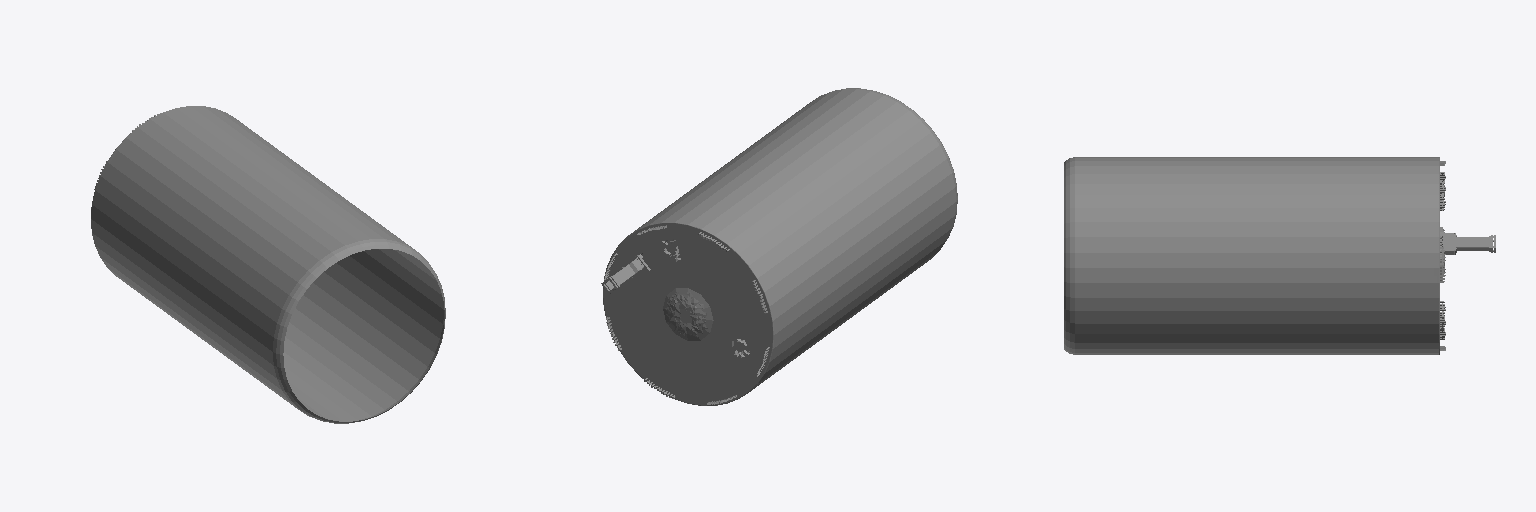
Rendered from Step000.obj.
The picture shows the model from 3 angles: view 1: azimuth 30°, elevation 25°; view 2: azimuth 150°, elevation 25°; view 3: azimuth 270°, elevation 25°; orthographic projection.
Parts seen in each view (by area): view 1: pCylinder1417__SoillWallStandard03, shape0__GroundGrassEdge00; view 2: pCylinder1417__SoillWallStandard03, pCylinder1417__GroundGrassCarpet06, shape0__GroundGrassEdge00, f61__GrassPeachSet01, polySurface1606_1__FenceWood01; view 3: pCylinder1417__SoillWallStandard03, shape0__GroundGrassEdge00, pCube1__TileBaseBrick00, polySurface1606_1__FenceWood01.
Boxes of the visible parts, <box> form: pCylinder1417__SoillWallStandard03: <box>93,108,445,423</box>; shape0__GroundGrassEdge00: <box>91,106,238,276</box>; pCylinder1417__SoillWallStandard03: <box>635,88,957,388</box>; pCylinder1417__GroundGrassCarpet06: <box>603,223,772,405</box>; shape0__GroundGrassEdge00: <box>603,221,776,405</box>; f61__GrassPeachSet01: <box>667,295,705,334</box>; polySurface1606_1__FenceWood01: <box>604,225,769,404</box>; pCylinder1417__SoillWallStandard03: <box>1064,157,1436,354</box>; shape0__GroundGrassEdge00: <box>1434,157,1439,354</box>; pCube1__TileBaseBrick00: <box>1440,232,1493,254</box>; polySurface1606_1__FenceWood01: <box>1440,161,1445,350</box>.
Size of the model in its own units: 4402 by 4402 by 9609.